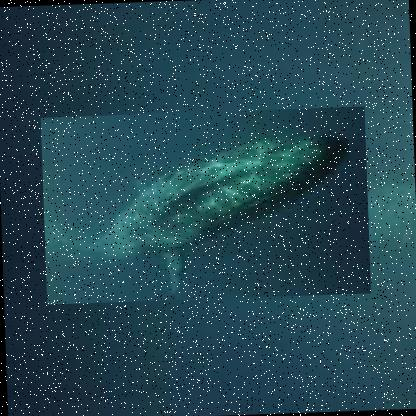blue_whale: (39, 107, 370, 306)
